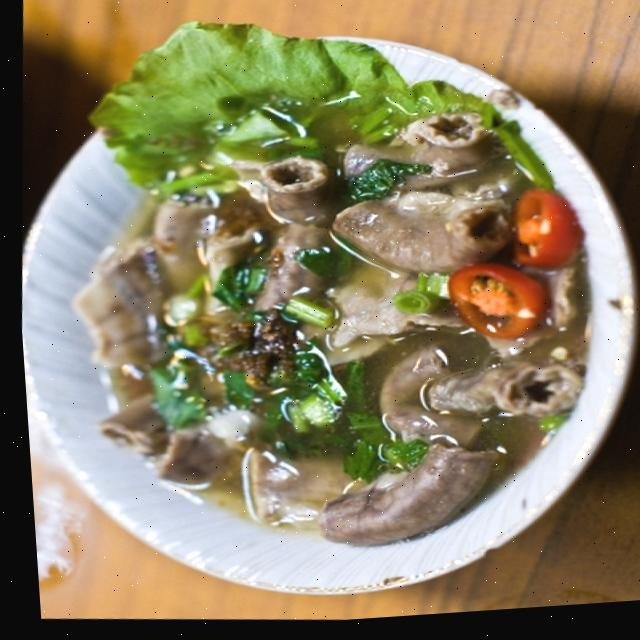汤锅炖物: (17, 19, 635, 608)
